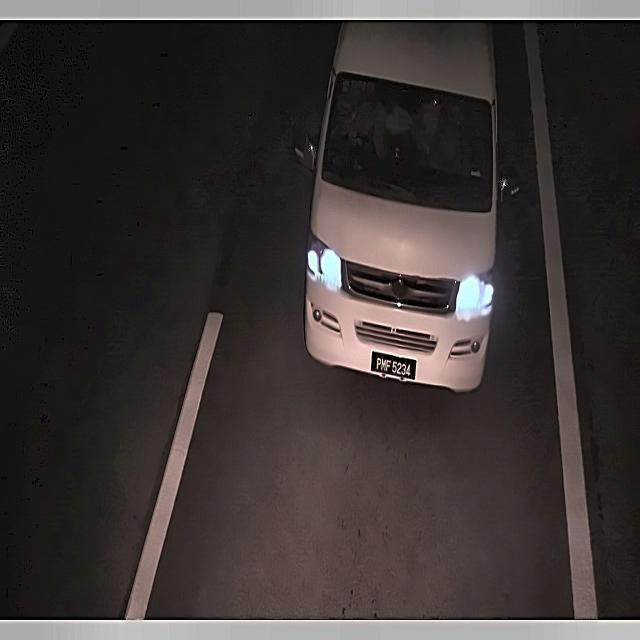car: (369, 344, 420, 383)
